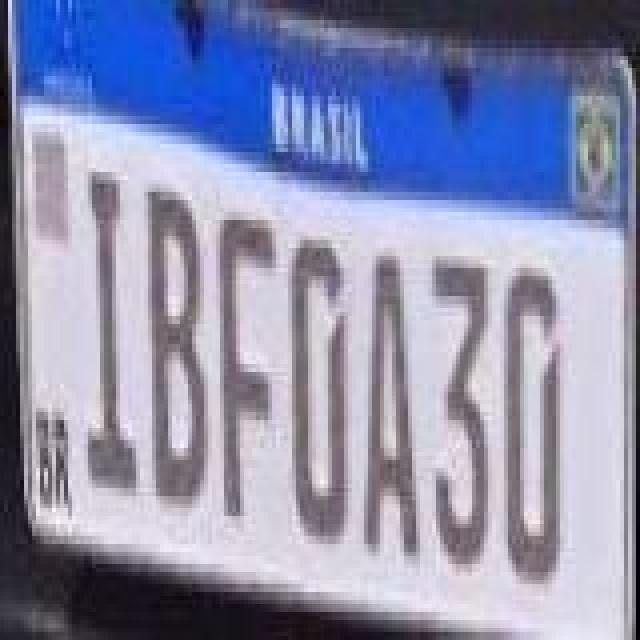3: (432, 246, 492, 570)
A: (366, 250, 422, 566)
B: (142, 180, 206, 516)
D: (504, 256, 564, 592), (288, 222, 348, 546)
F: (218, 210, 274, 526)
I: (84, 170, 136, 502)
